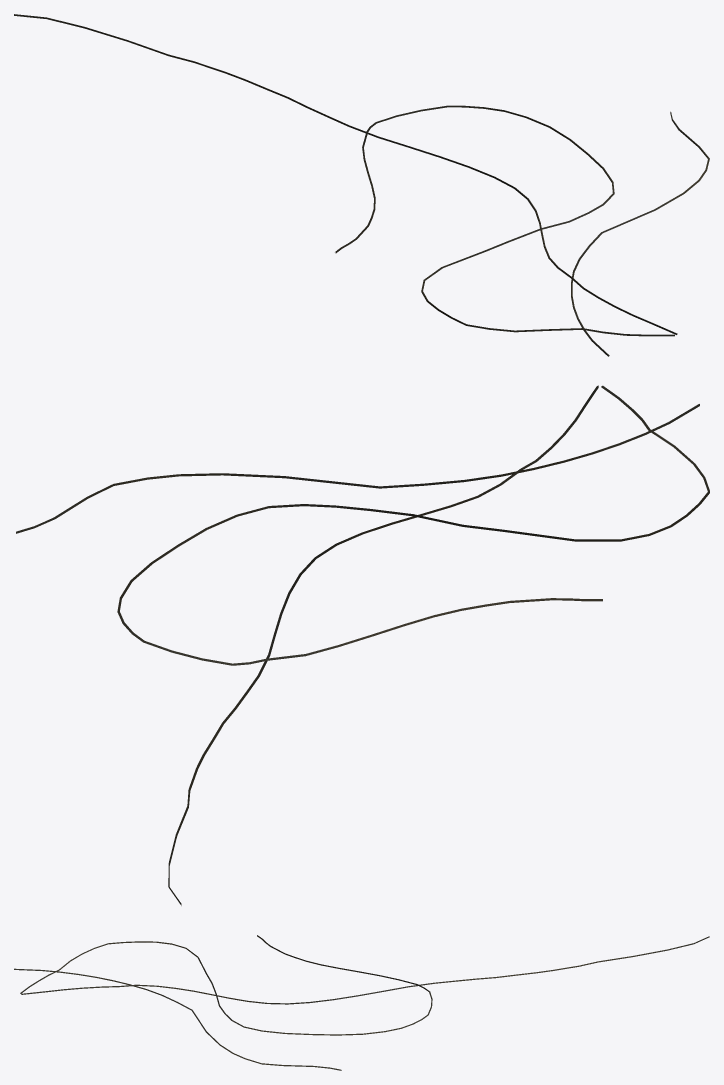
File: Prop_XinsjxDj030.glb
3 renders of one model, top to bottom at view 1: azimuth 30°, elevation 25°; view 2: azimuth 150°, elevation 25°; view 3: azimuth 270°, elevation 25°, orthographic. The views are drawn at different scales.
Visible parts, largest first — view 1: xinsjx_dj030; view 2: xinsjx_dj030; view 3: xinsjx_dj030.
Boxes of the visible parts, left/top/right/bottom form: xinsjx_dj030: left=14, top=14, right=709, bottom=356; xinsjx_dj030: left=16, top=385, right=709, bottom=905; xinsjx_dj030: left=14, top=935, right=709, bottom=1070.
Size of the model in its own units: 14.62 by 0.1321 by 31.81.
1 material, 1 textured.
